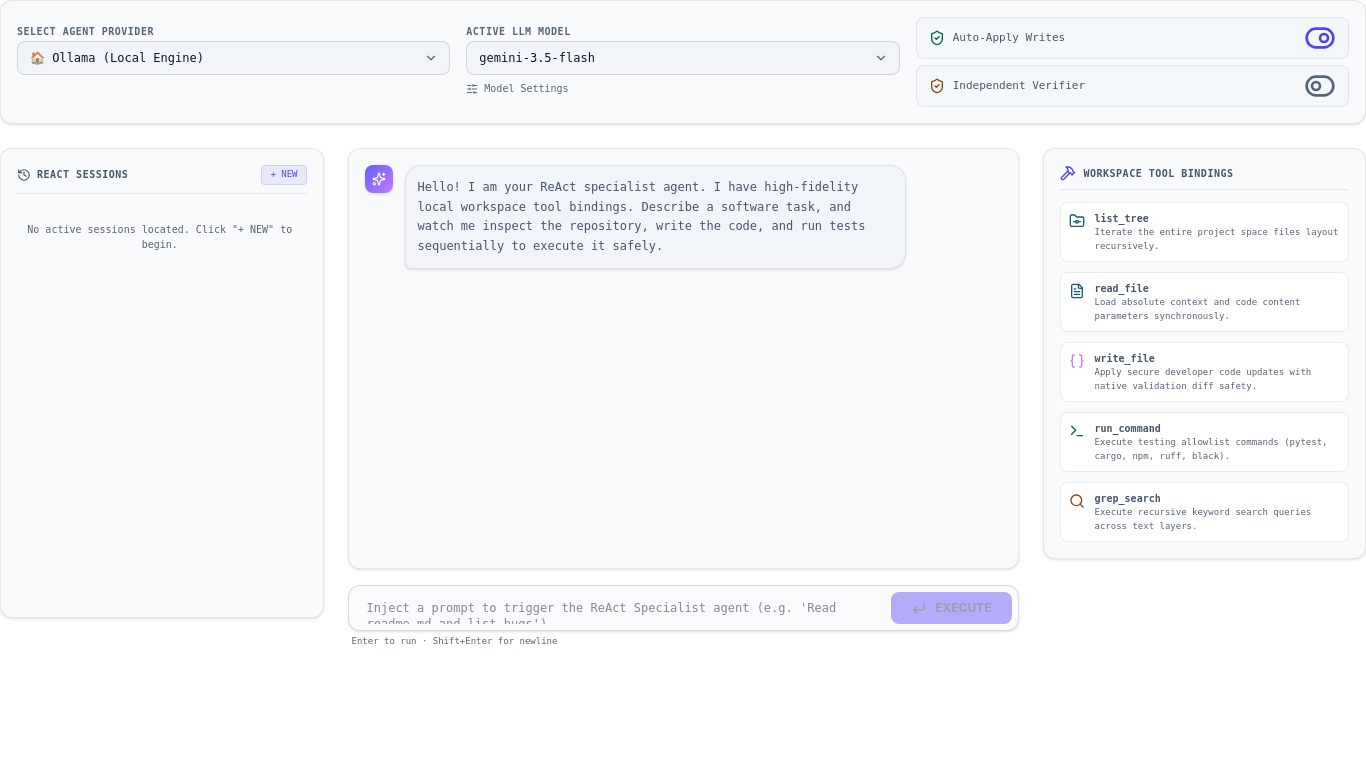
ReactAgentTab — ReAct Specialist › expands a trace step to show full args/result
Replace the text in the text box with "read it": (618, 608) [354,592,881,624]
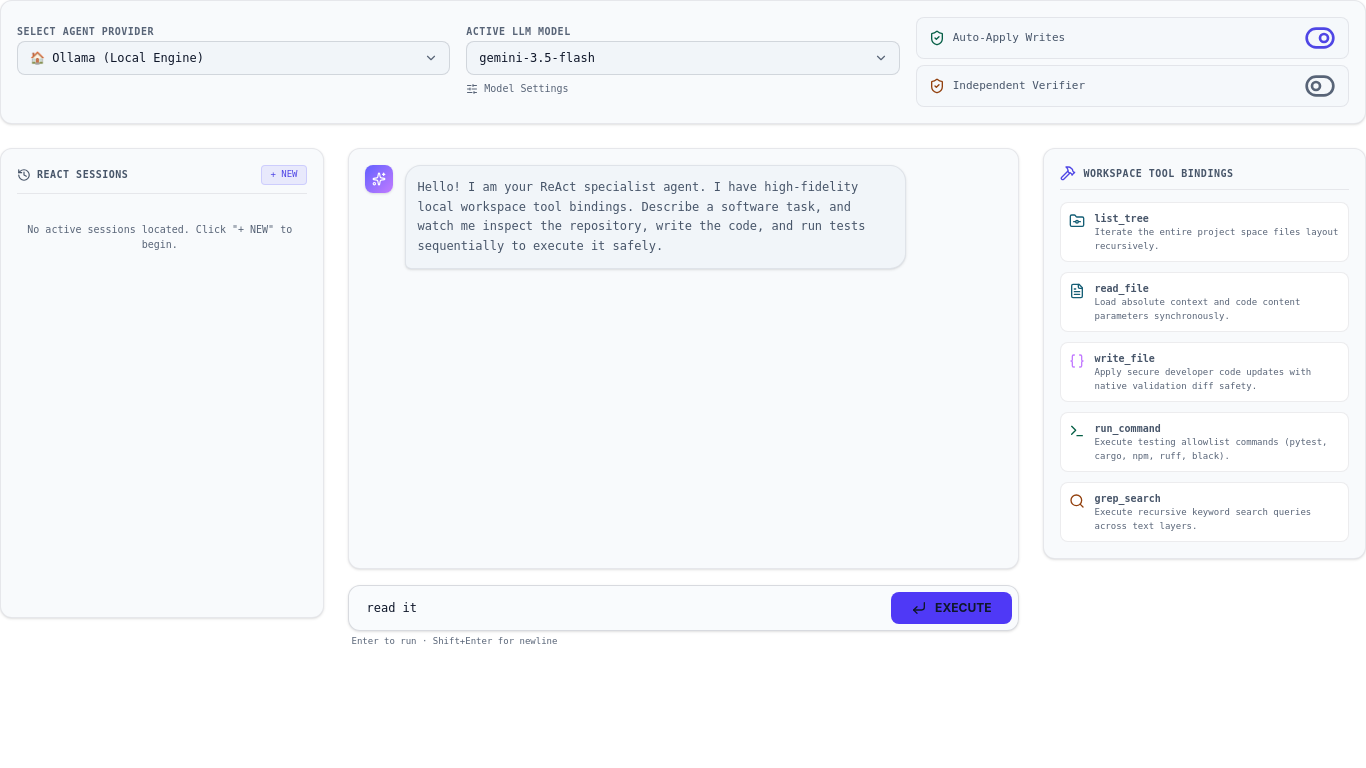
Press Enter in the text box, box [354,592,881,624]
(page scrolled)
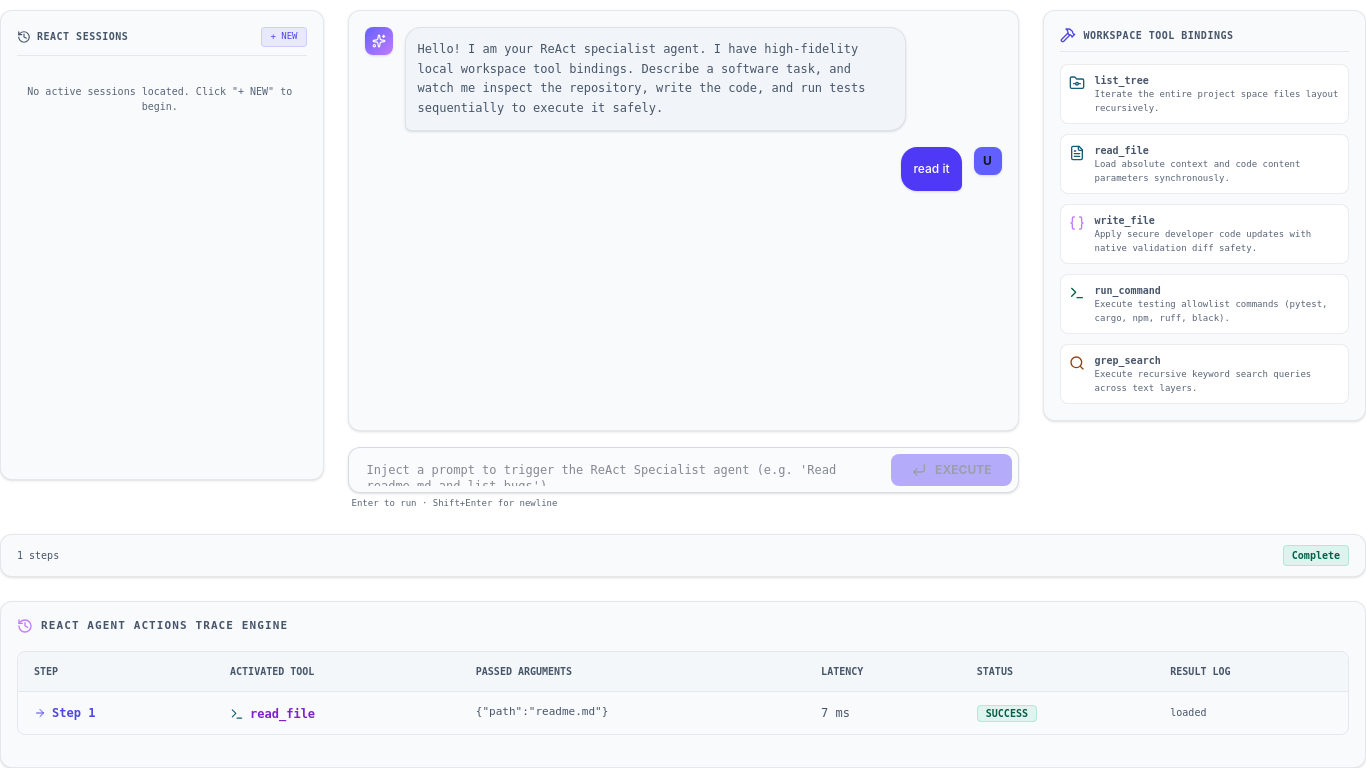
Click the button with aria-label "Expand step detail": (65, 712) [34,704,95,720]
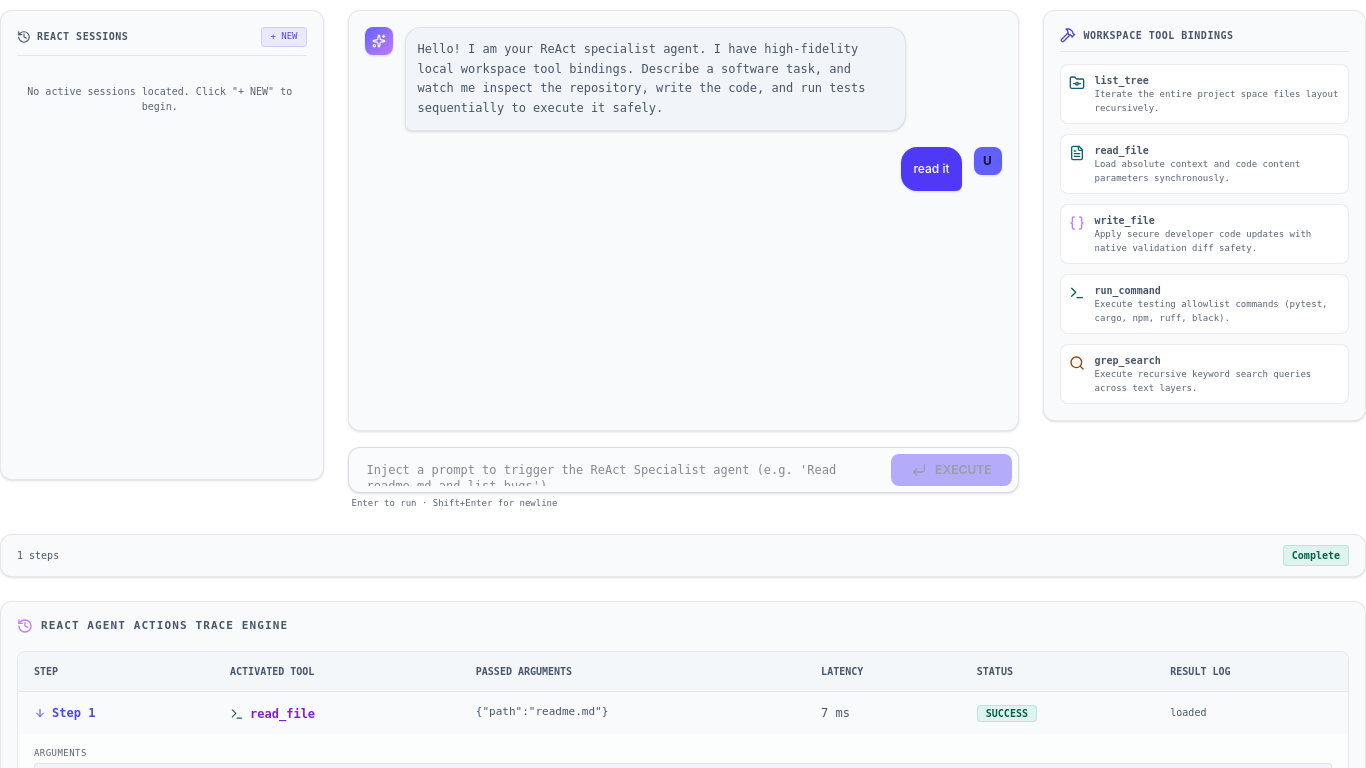
Expected: the text "{\"path\":\"readme.md\"}" is shown, [460,691,805,734]
Expected: the button with aria-label "Collapse step detail" is shown, [34,704,95,720]
